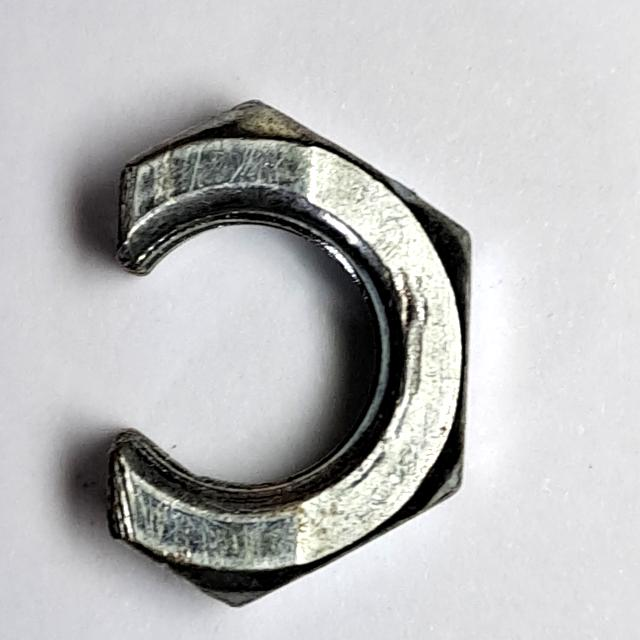Fracture: (96, 89, 480, 615)
